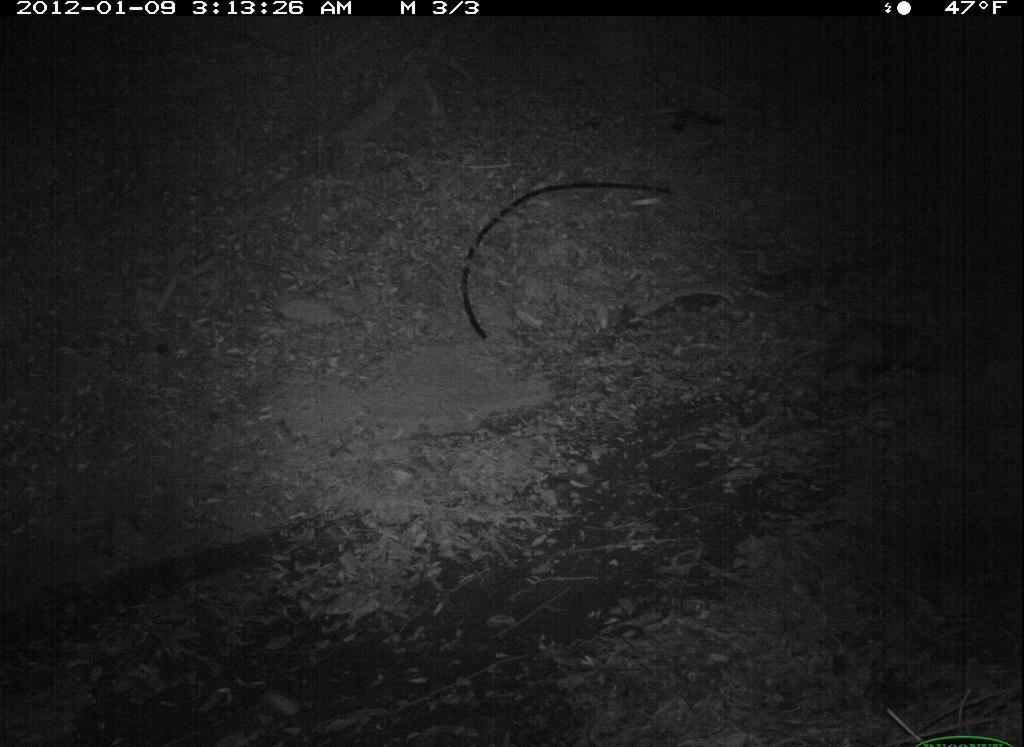opossum: (785, 317, 912, 386)
